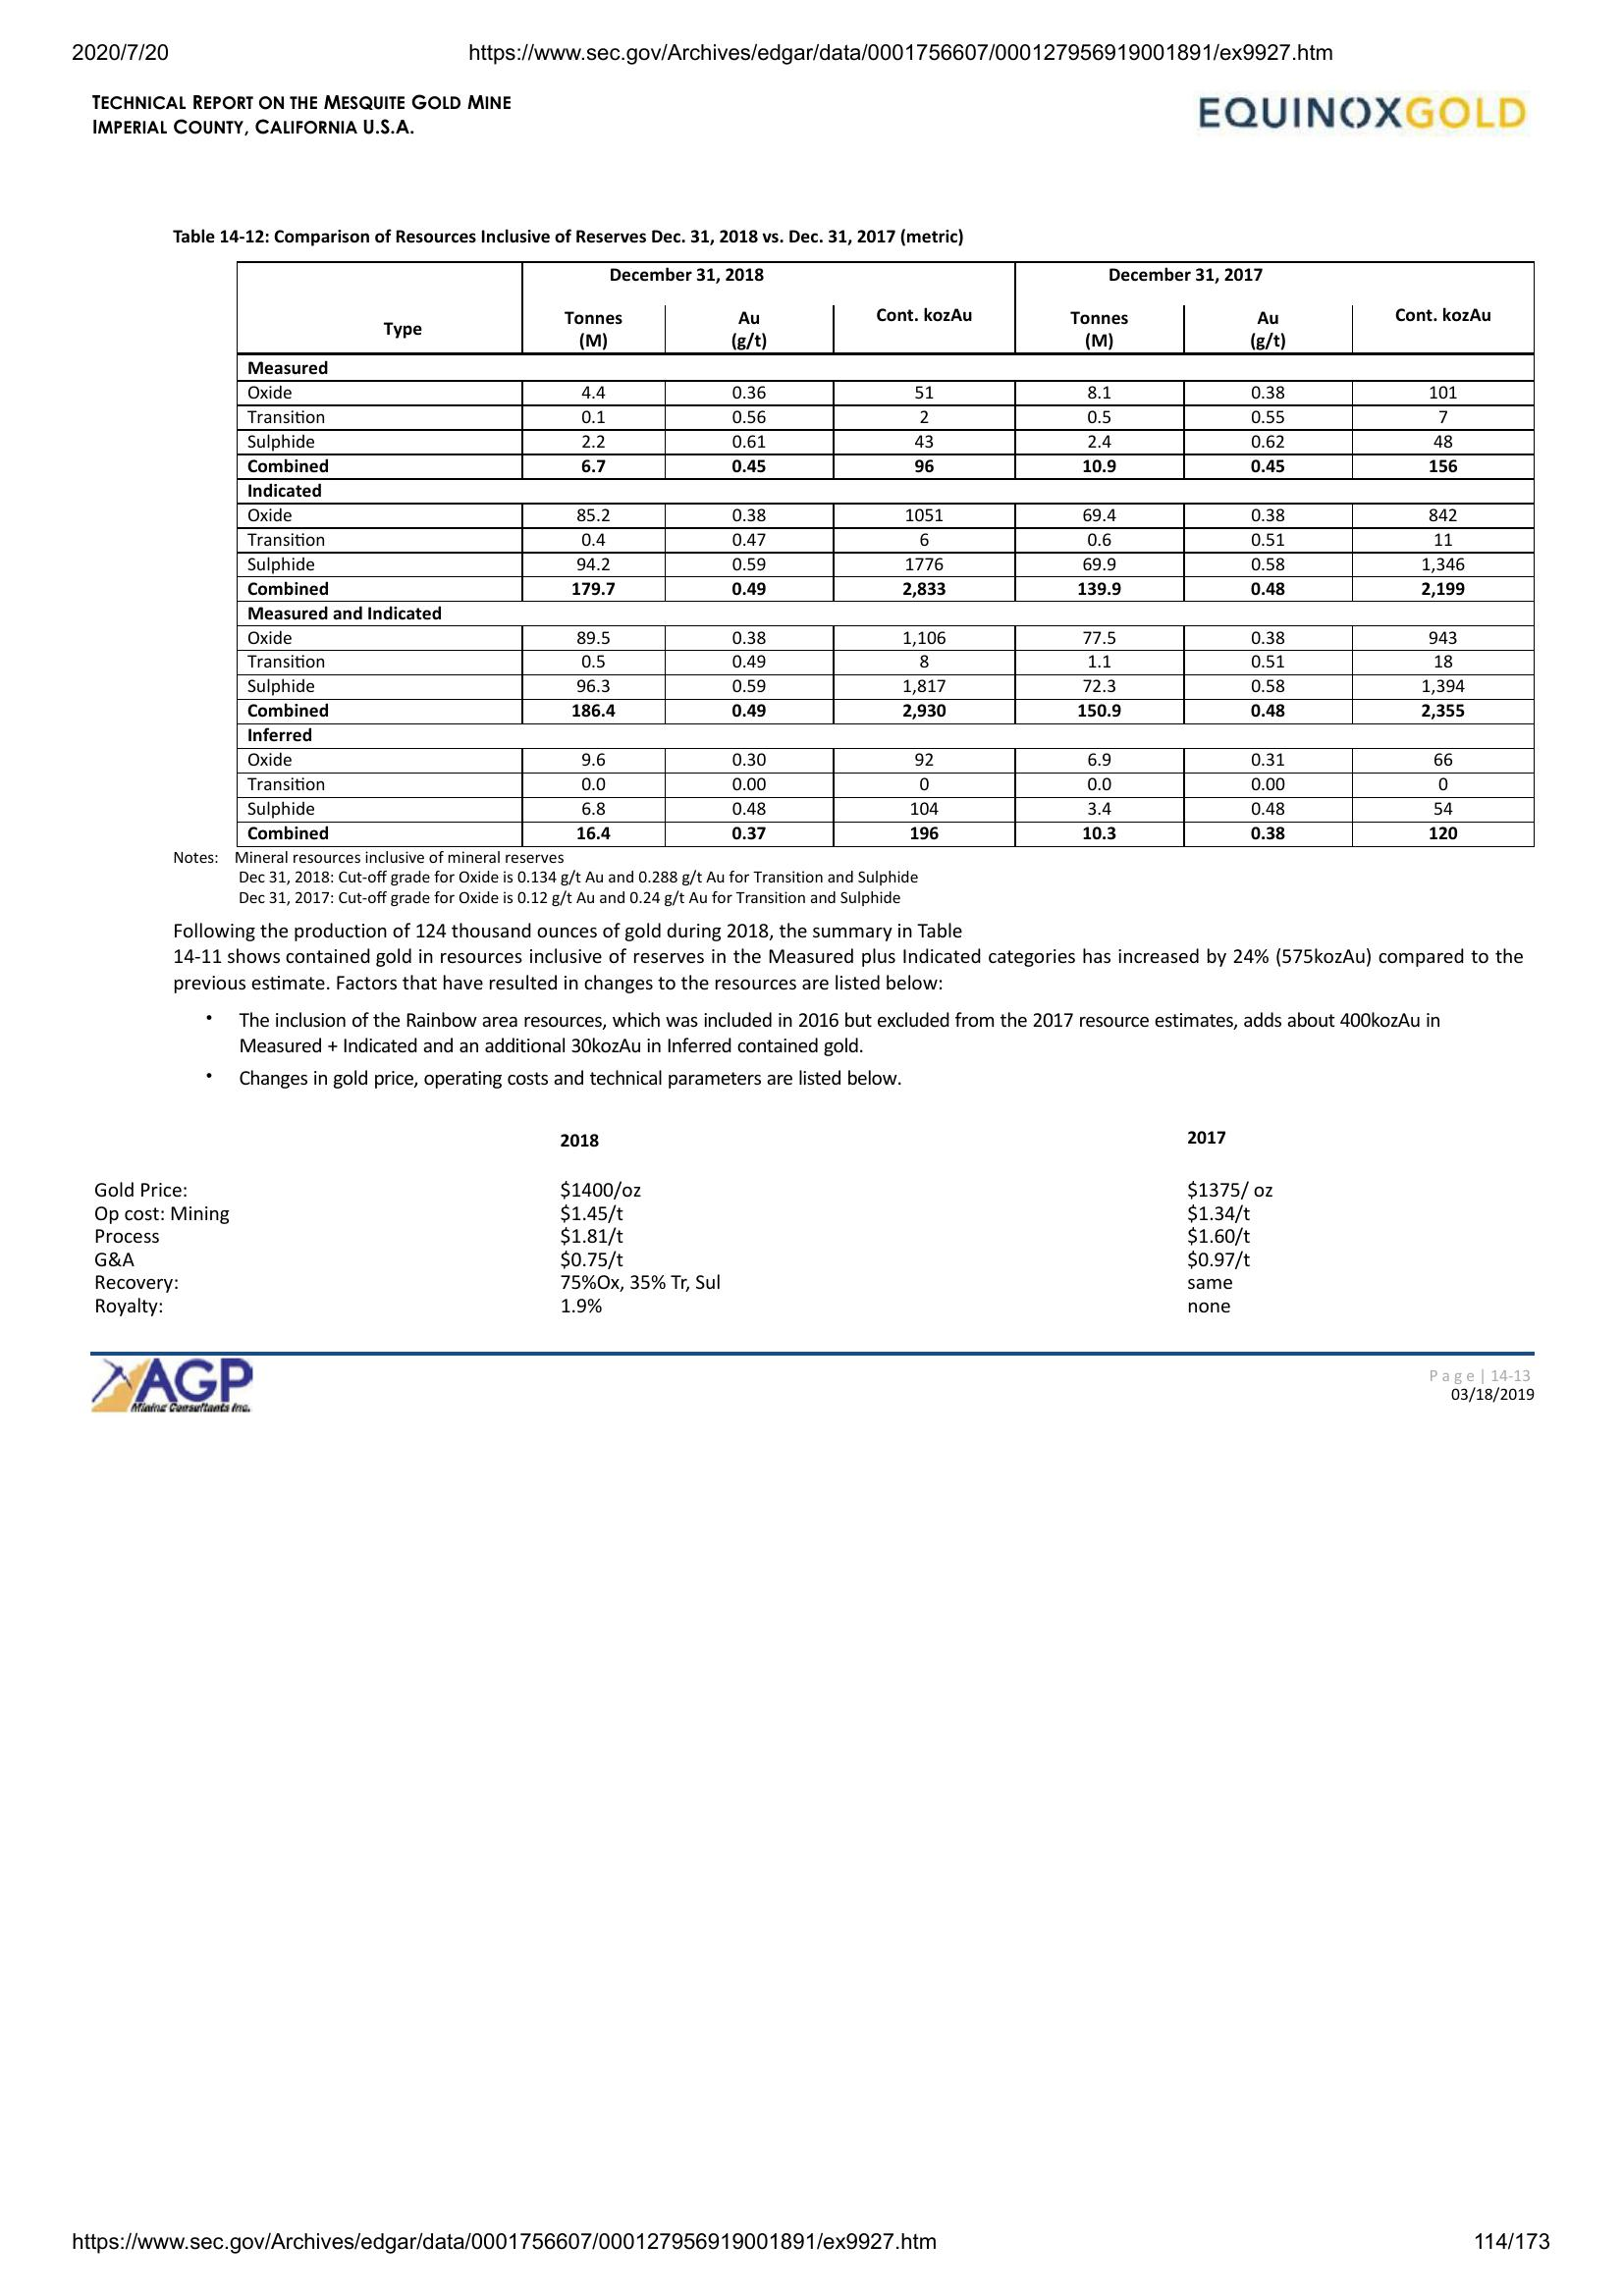table: (228, 253, 1544, 857)
